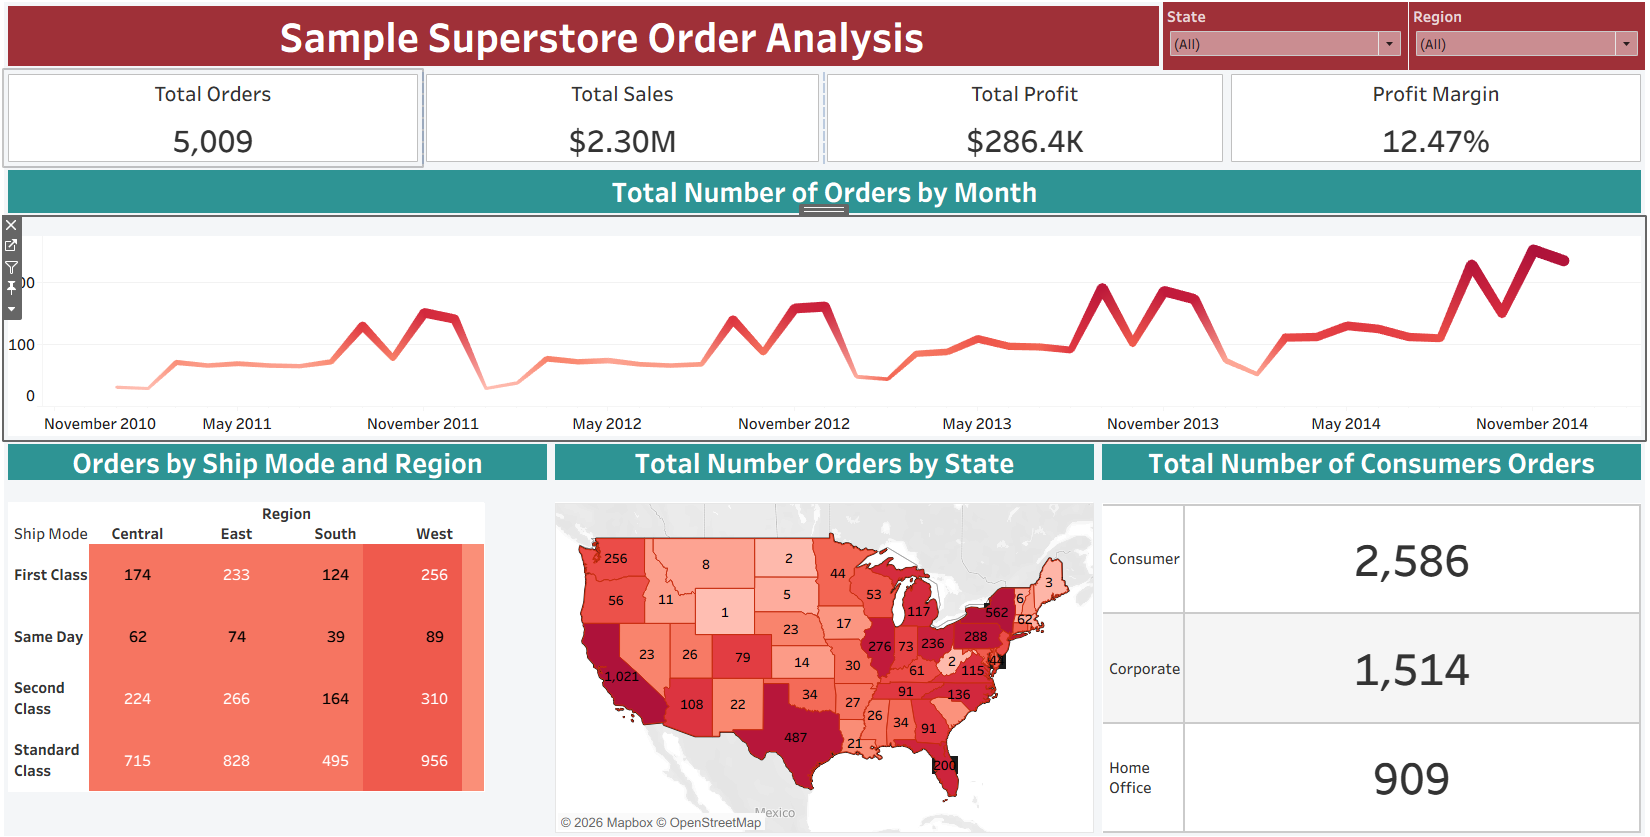

The dashboard page shown, as its layout file describes it:
{"tool":"tableau","page":{"name":"Dashboard 1","canvas":[1000,1000],"units":"permille","ordinal":0},"visuals":[{"type":"text","box":[4.8,9.4,699.7,79.9]},{"type":"filter","title":"Orders by State","param":"[federated.0gflv2812bmirm12vhuat0wzgxdq].[none:State:nk]","box":[704.5,9.4,147.6,71.7]},{"type":"filter","title":"Orders by State","param":"[federated.0gflv2812bmirm12vhuat0wzgxdq].[none:Region:nk]","box":[852.1,9.4,143,71.7]},{"type":"worksheet","title":"Sheet 5","mark":"Automatic","box":[4.8,89.3,252.3,112.8]},{"type":"worksheet","title":"Sheet 6","mark":"Automatic","box":[257.1,89.3,242,112.8]},{"type":"worksheet","title":"Sheet 7","mark":"Automatic","box":[499.1,89.3,244.1,112.8]},{"type":"worksheet","title":"Sheet 8","mark":"Automatic","box":[743.2,89.3,252,112.8]},{"type":"text","box":[4.8,202.1,990.3,59.9]},{"type":"worksheet","title":"Orders by Month","mark":"Automatic","rows":["Calculation_1046236135448578"],"cols":["Order Date"],"box":[4.8,262,990.3,262]},{"type":"text","box":[4.8,524.1,330.1,52]},{"type":"text","box":[334.9,524.1,330.1,52]},{"type":"text","box":[665.1,524.1,330.1,52]},{"type":"worksheet","title":"Orders by Ship Mode and Region","mark":"Square","rows":["Ship Mode"],"cols":["Region"],"box":[4.8,576,330.1,399.5]},{"type":"worksheet","title":"Orders by State","mark":"Multipolygon","box":[334.9,576,330.1,414.6]},{"type":"worksheet","title":"Consumers Orders","mark":"Text","rows":["Segment"],"box":[665.1,576,330.1,414.6]}]}

Visuals, with their boxes on the dashboard's canvas, which has no fixed pixel size, in thousandths of its width and height (x1, y1, x2, y2). These are canvas units, not pixel positions in the 1650x837 screenshot, which may show the page scaled, cropped or inside an application window:
text: crop(5, 9, 704, 89)
"Orders by State" filter: crop(704, 9, 852, 81)
"Orders by State" filter: crop(852, 9, 995, 81)
"Sheet 5" worksheet: crop(5, 89, 257, 202)
"Sheet 6" worksheet: crop(257, 89, 499, 202)
"Sheet 7" worksheet: crop(499, 89, 743, 202)
"Sheet 8" worksheet: crop(743, 89, 995, 202)
text: crop(5, 202, 995, 262)
"Orders by Month" worksheet: crop(5, 262, 995, 524)
text: crop(5, 524, 335, 576)
text: crop(335, 524, 665, 576)
text: crop(665, 524, 995, 576)
"Orders by Ship Mode and Region" worksheet (Square marks): crop(5, 576, 335, 976)
"Orders by State" worksheet (Multipolygon marks): crop(335, 576, 665, 991)
"Consumers Orders" worksheet (Text marks): crop(665, 576, 995, 991)
